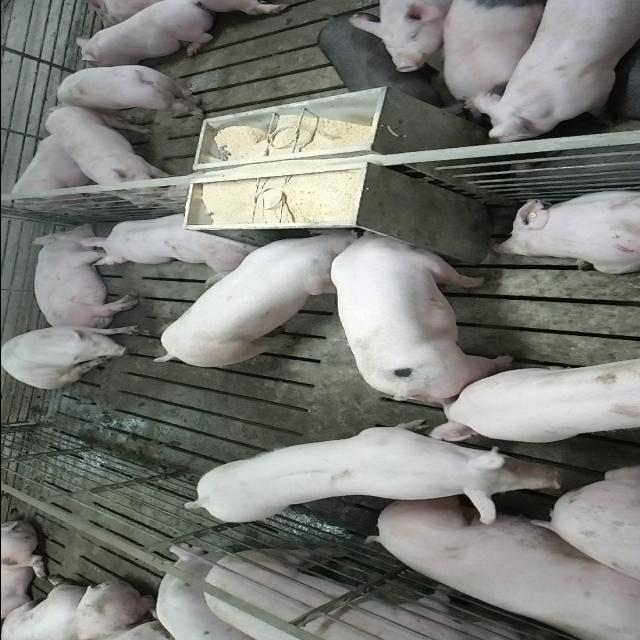Feeding: (328, 220, 512, 397), (144, 229, 359, 373)
Lateral_lying: (27, 223, 141, 331)
Sitting: (2, 322, 142, 388)
Standing: (194, 547, 640, 640), (186, 421, 520, 526), (470, 2, 640, 143), (436, 350, 640, 440), (436, 3, 549, 118), (46, 105, 174, 203), (315, 12, 433, 102), (48, 62, 218, 116)
Sternal_lying: (490, 186, 640, 274), (79, 209, 261, 279), (67, 1, 217, 66), (4, 130, 98, 214)
